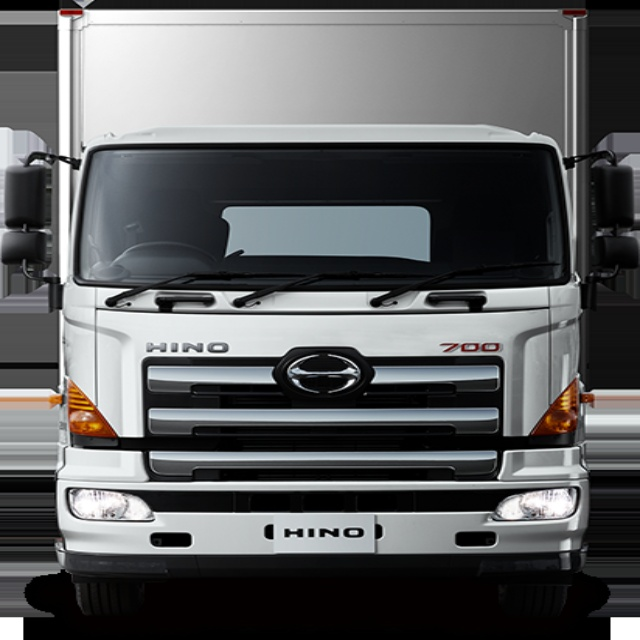Truck: (2, 7, 640, 620)
